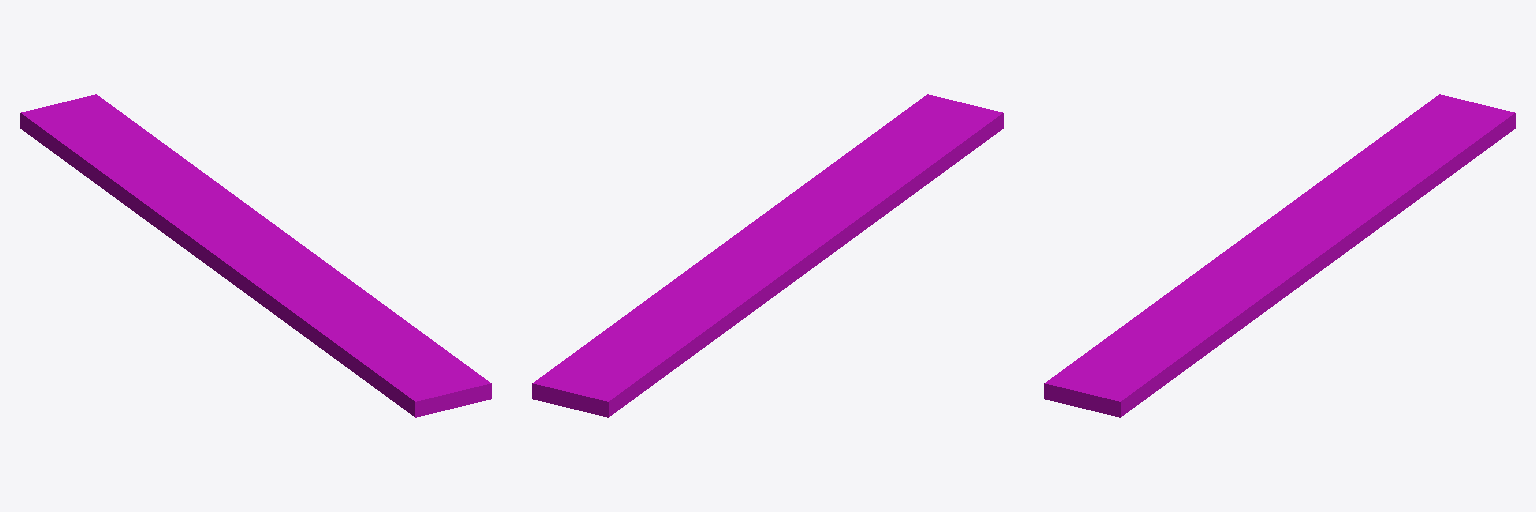
URDF robot description (simple_cuboid):
<?xml version="1.0"?>
<robot name="simple_cuboid">
  <link name="base_link">
    <inertial>
      <origin xyz="0 0 0" rpy="0 0 0" />
      <mass value="0.1" />
      <inertia ixx="0.000363" ixy="0" ixz="0" iyy="0.000363" iyz="0"
          izz="0.00006" />
    </inertial>
    <visual>
      <origin xyz="0 0 0" rpy="0 0 0" />
      <geometry>
        <box size="0.1 0.9 0.02" />
      </geometry>
      <material name="red">
        <color rgba="0.8 0.1 0.8 1" />
      </material>
    </visual>
    <collision>
      <geometry>
        <box size="0.1 0.9 0.02" />
      </geometry>
    </collision>


   </link>
</robot>

--- What the picture shows (computed from the rendered views, not written in the file) ---
The picture shows the robot from 3 angles, left to right: view 1: azimuth 30°, elevation 25°; view 2: azimuth 150°, elevation 25°; view 3: azimuth 330°, elevation 25°; orthographic projection.
Robot: simple_cuboid — 1 links, 0 joints (none); root link base_link; default pose: all joints at 0.
Visible links, largest first — view 1: base_link; view 2: base_link; view 3: base_link.
Boxes of the visible links, x1,y1,x2,y2 form: base_link: (20,94,491,417); base_link: (532,94,1003,417); base_link: (1044,94,1515,417).
Bounding box of the posed robot: 0.1 × 0.9 × 0.02 m (x, y, z).
Geometry: primitives only (box / cylinder / sphere), no mesh files.